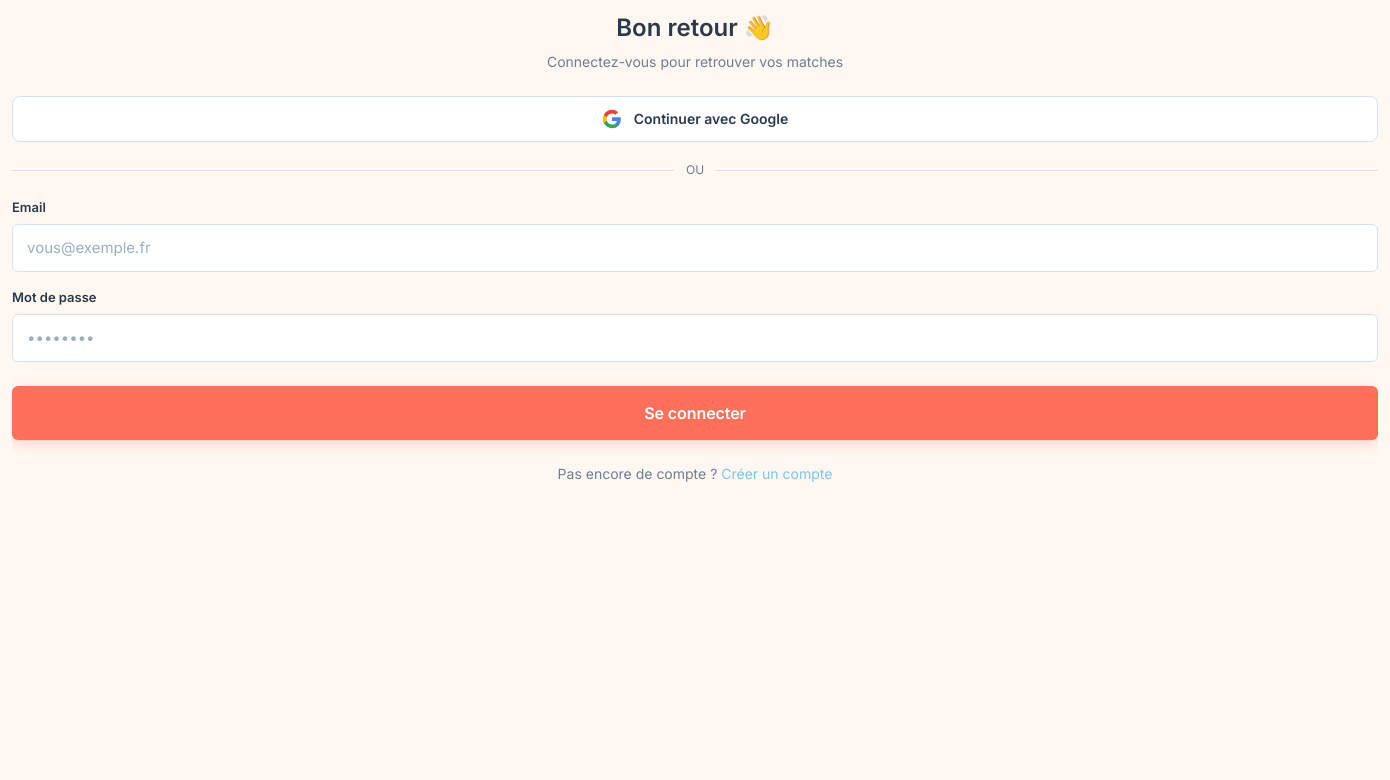
Test: LoginPage › displays_invalid_credentials_error_when_signIn_returns_CredentialsSignin
This screenshot has width=1390, height=780.
Type "alice@example.com" into the field labelled "Email" at point(695, 248), box x1=12 y1=224 x2=1378 y2=272
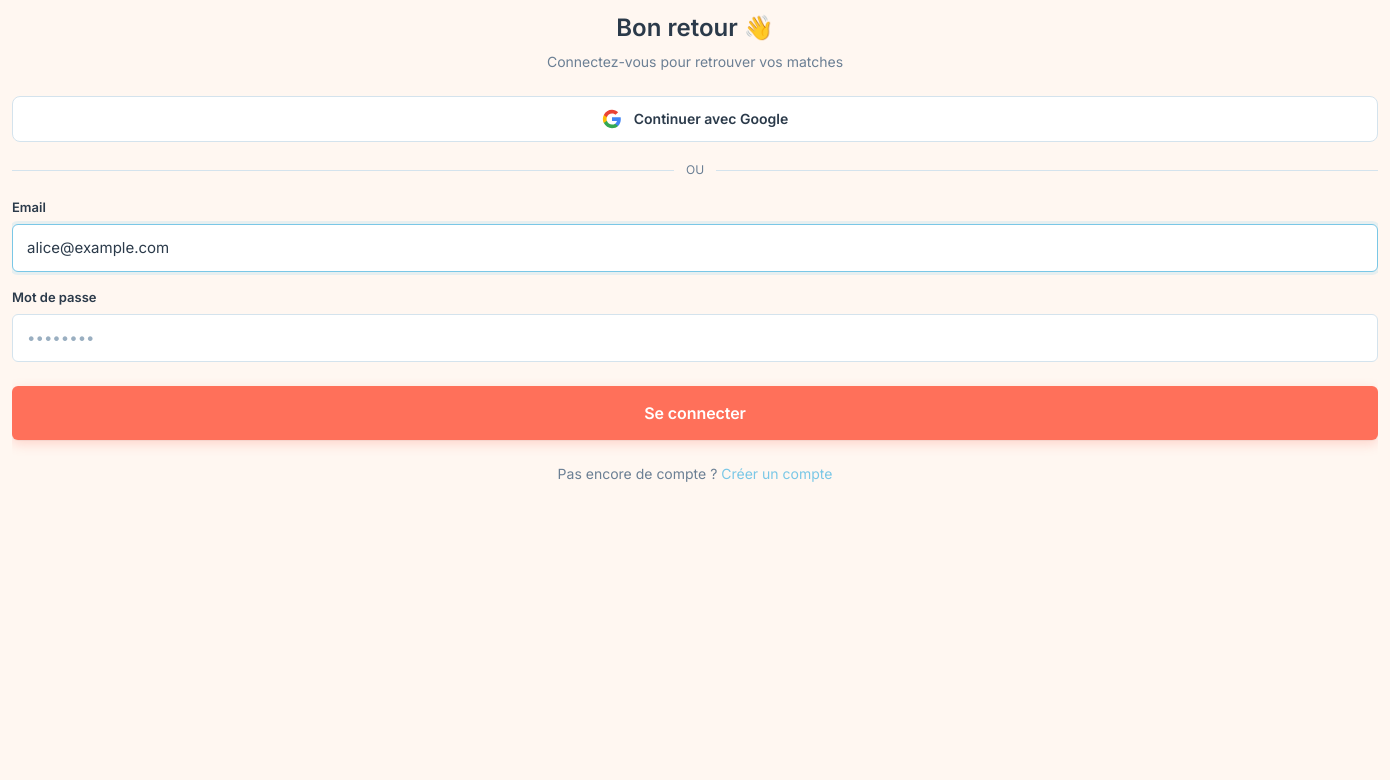
Type "mauvais_mdp" into the password field labelled "Mot de passe" at point(695, 338), box x1=12 y1=314 x2=1378 y2=362
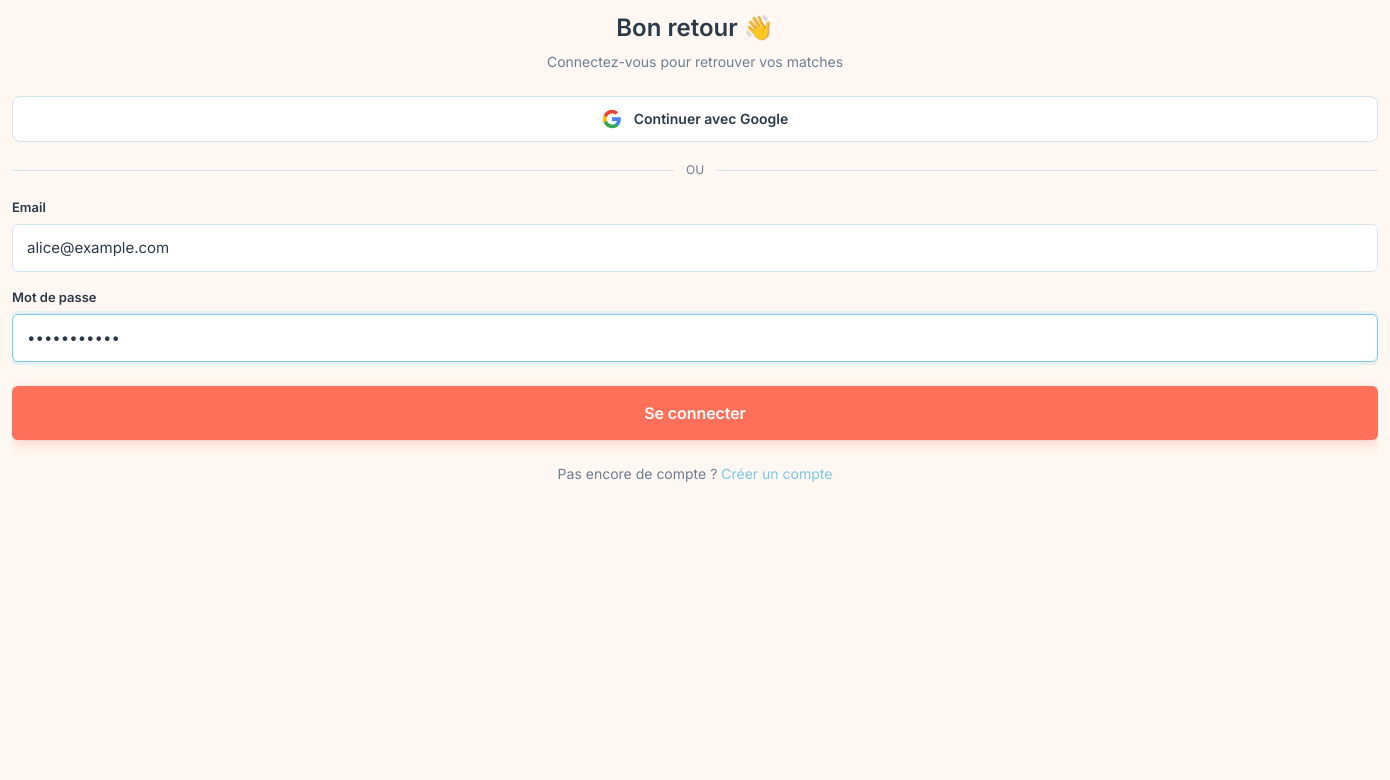
Click the button "Se connecter" at point(695, 413), box x1=12 y1=386 x2=1378 y2=440
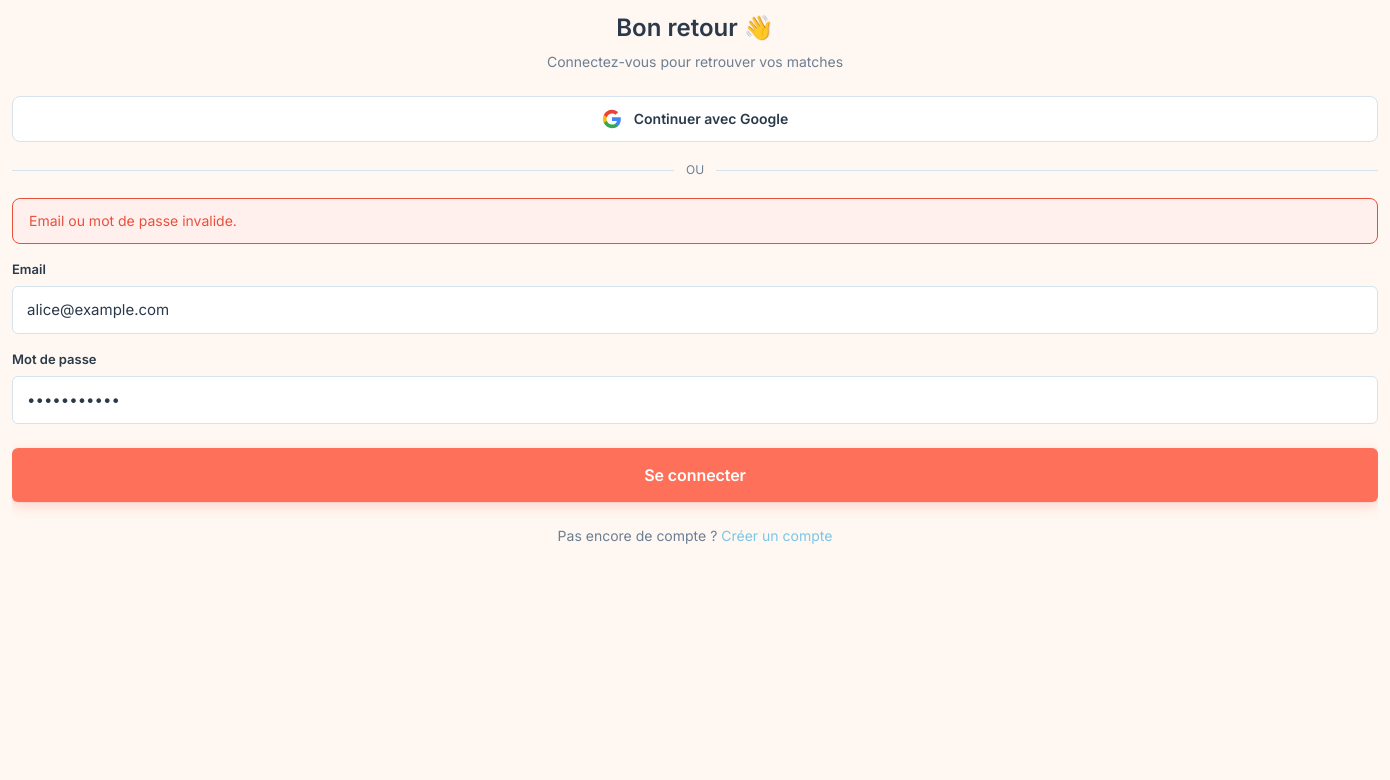
Expected: the message reads "Email ou mot de passe invalide.", x1=29 y1=212 x2=237 y2=229
